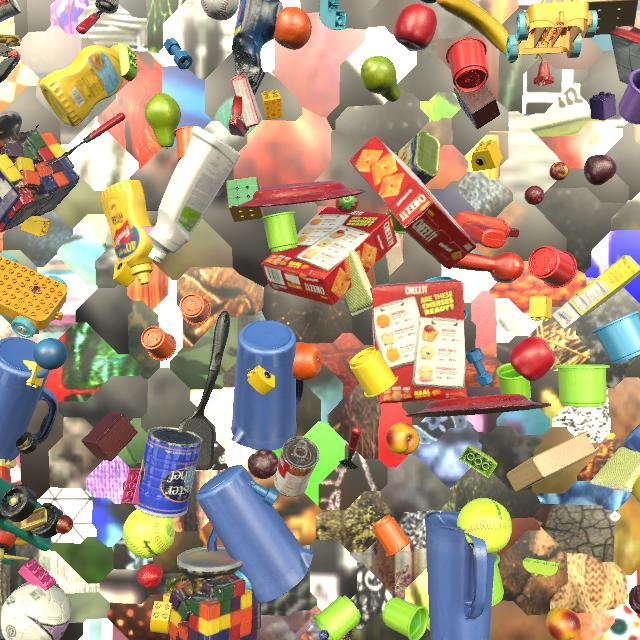ycb_002_master_chef_can: (134, 427, 203, 518)
ycb_003_cracker_box: (350, 136, 477, 269), (261, 206, 397, 306), (370, 279, 467, 404)
ycb_004_sugar_box: (551, 255, 640, 330)
ycb_005_tomato_soup_can: (273, 436, 319, 497), (0, 0, 21, 22)
ycb_006_mustard_bottle: (40, 44, 132, 126), (100, 179, 153, 285)
ycb_008_pudding_box: (610, 25, 640, 84)
ycb_009_gelatin_box: (231, 75, 261, 128)
ycb_010_potted_meat_can: (395, 131, 440, 185)
ycb_011_banana: (437, 0, 515, 63)
ycb_012_strawberry: (137, 564, 163, 588), (335, 188, 359, 213)
ycb_013_apple: (509, 337, 556, 381), (394, 4, 437, 50)
ycb_015_peach: (546, 607, 581, 640), (386, 422, 420, 455), (14, 534, 37, 546)
ycb_016_pear: (145, 93, 181, 149), (360, 56, 401, 102)
ycb_017_orange: (274, 7, 312, 50), (292, 343, 323, 380)
ycb_018_plum: (584, 155, 617, 186), (248, 449, 279, 479), (628, 585, 640, 615), (31, 286, 40, 294)
